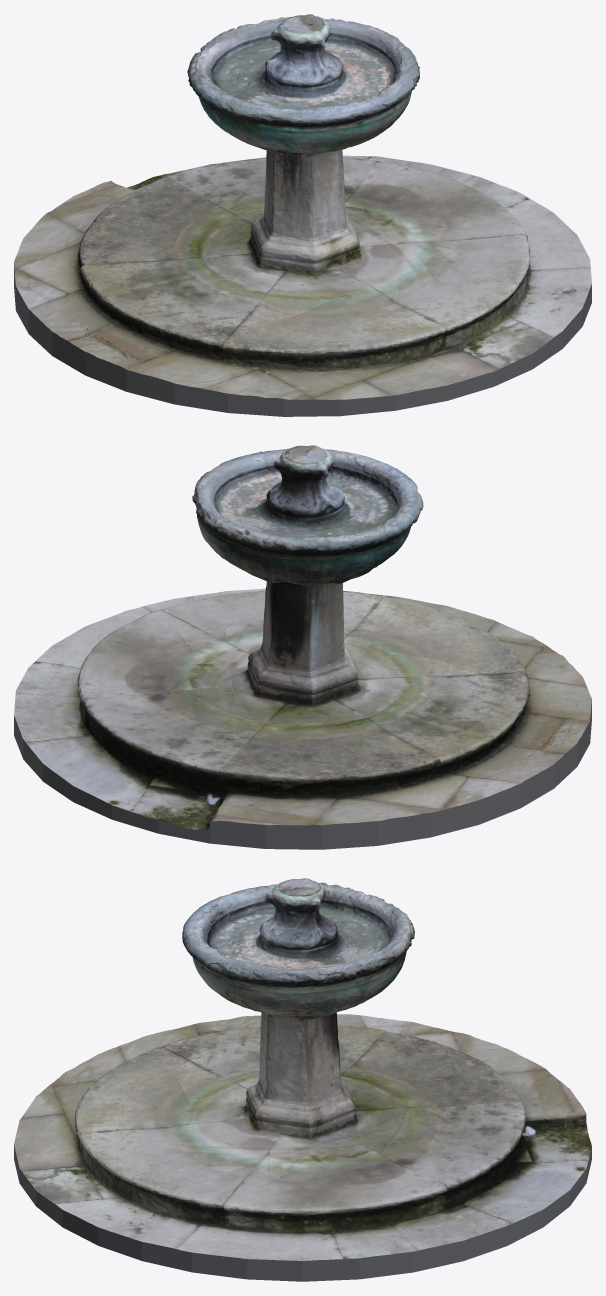
The model's file is fountain.fbx.
3 views of the same model, one above another, from view 1: azimuth 30°, elevation 25°; view 2: azimuth 150°, elevation 25°; view 3: azimuth 270°, elevation 25° (orthographic).
Visible parts, largest first — view 1: horniman-fountain; view 2: horniman-fountain; view 3: horniman-fountain.
Boxes of the visible parts, bbox=[...] form: horniman-fountain: bbox=[14, 14, 591, 416]; horniman-fountain: bbox=[14, 445, 591, 849]; horniman-fountain: bbox=[14, 878, 591, 1281].
Size of the model in its own units: 953 by 498 by 953.
2 materials, 2 textured.
